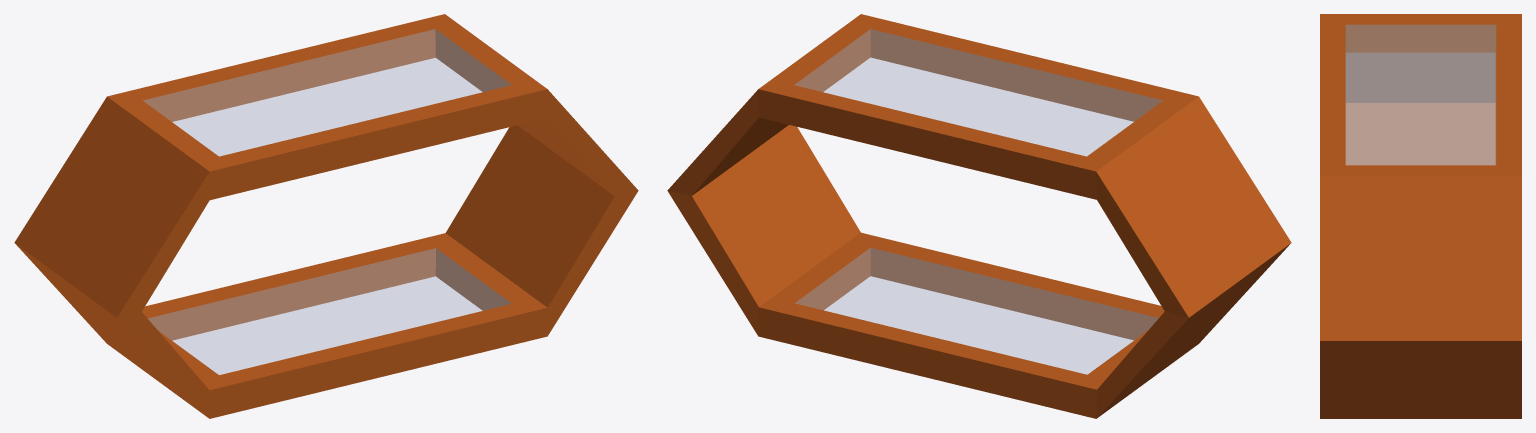
File: hexagon rectangle table with glass copper.glb
The picture shows the model from 3 angles, left to right: view 1: azimuth 30°, elevation 25°; view 2: azimuth 150°, elevation 25°; view 3: azimuth 270°, elevation 25°; orthographic projection.
Parts seen in each view (by area): view 1: geometric glass table marble.001; view 2: geometric glass table marble.001; view 3: geometric glass table marble.001.
Part boxes in pixels (x1,y1,x2,y2): geometric glass table marble.001: (14, 14, 638, 418); geometric glass table marble.001: (667, 14, 1291, 418); geometric glass table marble.001: (1320, 14, 1521, 418).
Size of the model in its own units: 2.05 by 0.9304 by 0.7.
